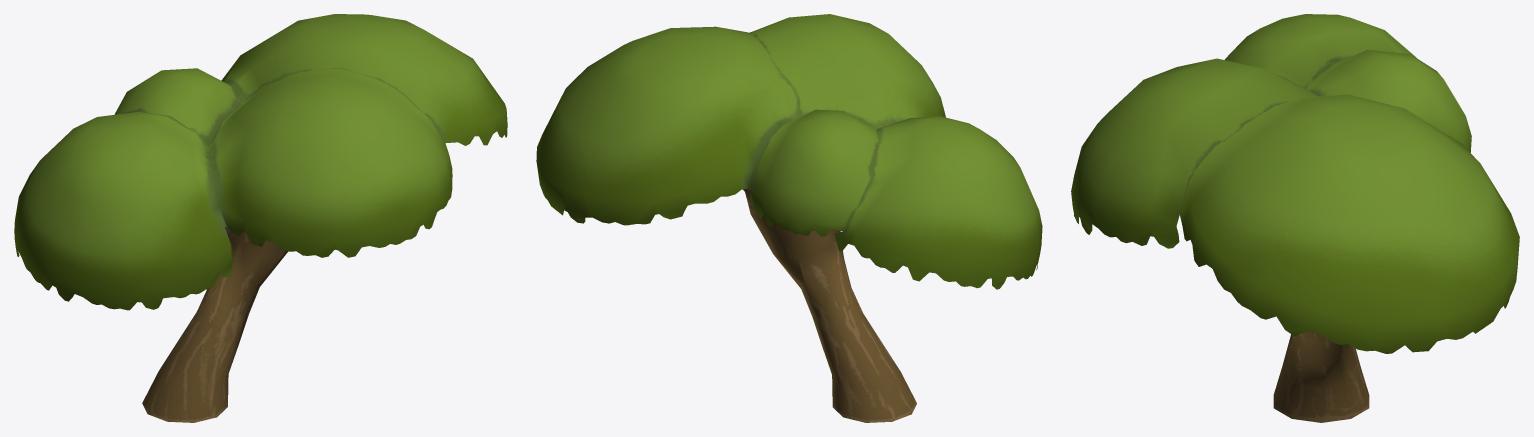
The model's file is treeBig.fbx.
3 views of the same model, side by side, from view 1: azimuth 30°, elevation 25°; view 2: azimuth 150°, elevation 25°; view 3: azimuth 270°, elevation 25° (orthographic). The views are drawn at different scales.
Visible parts, largest first — view 1: treeBig; view 2: treeBig; view 3: treeBig.
Part boxes in pixels (left/top/right/bottom): treeBig: left=14, top=14, right=507, bottom=422; treeBig: left=536, top=14, right=1042, bottom=422; treeBig: left=1071, top=14, right=1519, bottom=422.
Size of the model in its own units: 20.3 by 13.7 by 14.44.
1 material, 1 textured.
